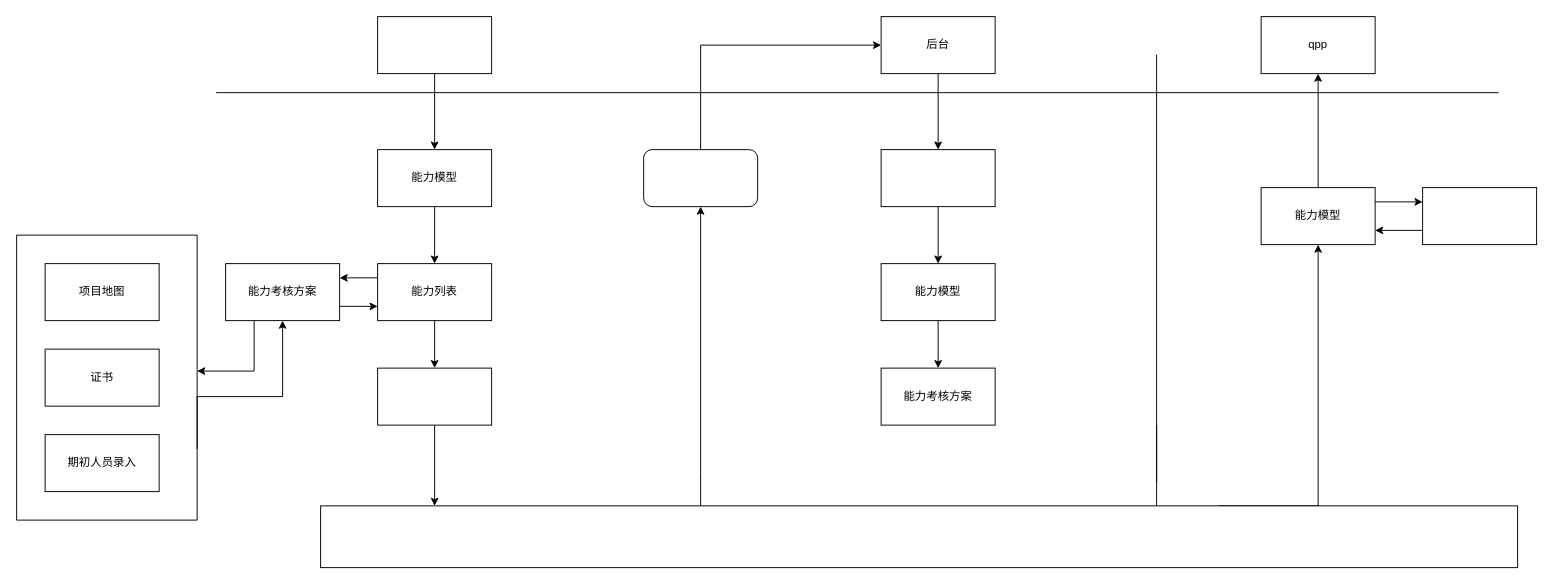
The diagram is 1553 pixels wide and 584 high, and some of its shapes have lost their labels. The shapes that lost their labels are listed below. From the top down, each one's centre as x and y in pixels, then its label:
(434,45): 定时任务
(700,178): 报表中心
(937,178): 能力管理
(1479,216): 用户信息
(434,396): 计算分数，刷新学员能力等级
(919,536): 学员能力考核情况表
